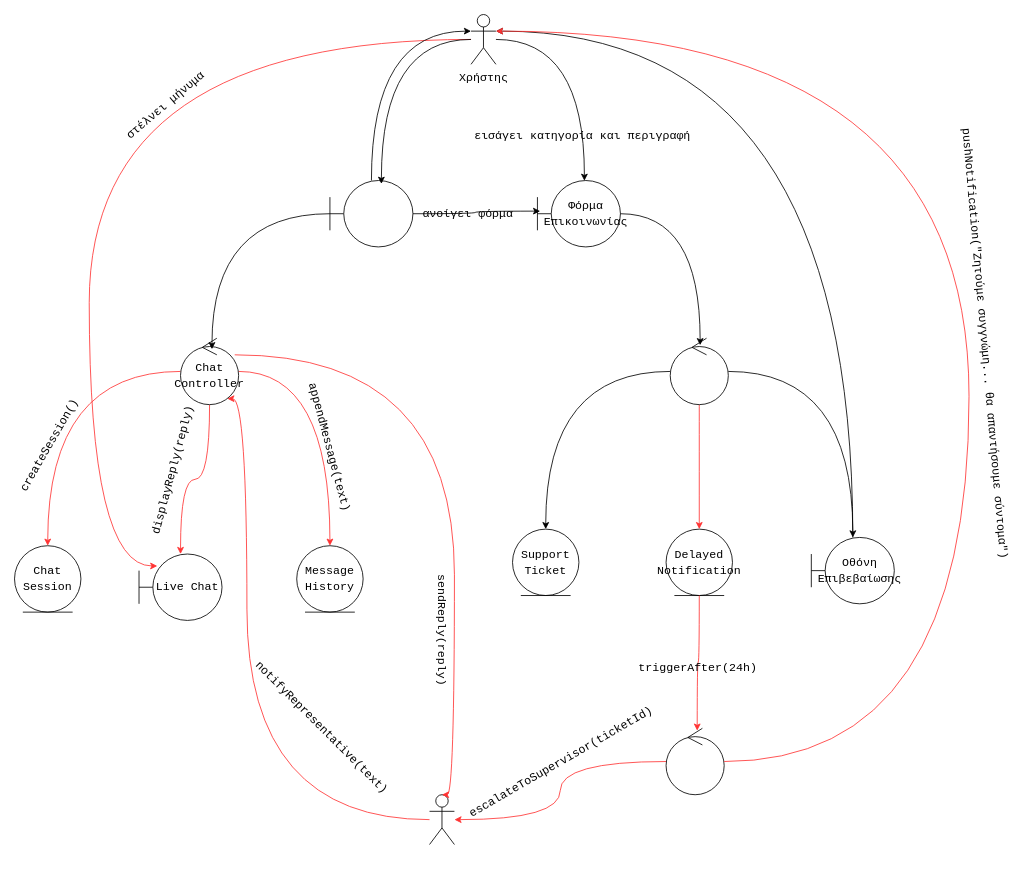
The diagram is 1027 pixels wide and 896 high, and some of its shapes have lost their labels. The shapes that lost their labels are listed below. From the top down, each one's centre as x and y in pixels, then its label:
the point at 371,213: Οθόνη Υποστήριξης
the point at 698,371: Support Controller
the point at 694,761: Notification Controller
the point at 441,819: Εκπρόσωπος Υποστήριξης
